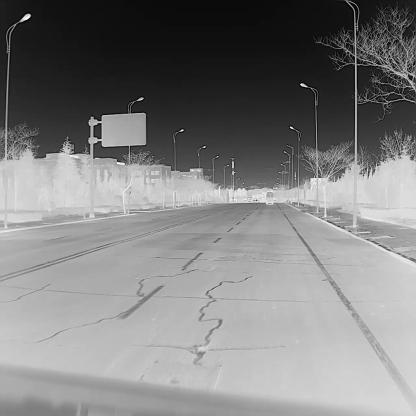truck: (265, 190, 274, 204), (246, 192, 253, 204)
